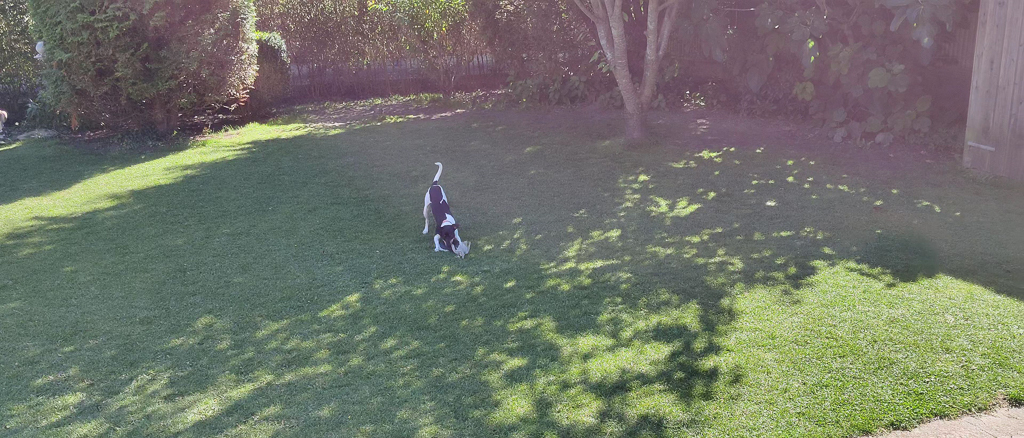Dog: (410, 156, 478, 259)
Eagle: (0, 105, 11, 133)
